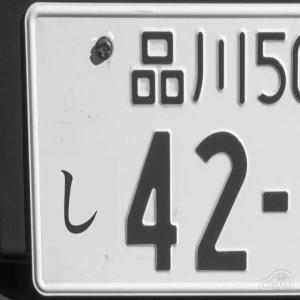Plate: (25, 2, 300, 296)
